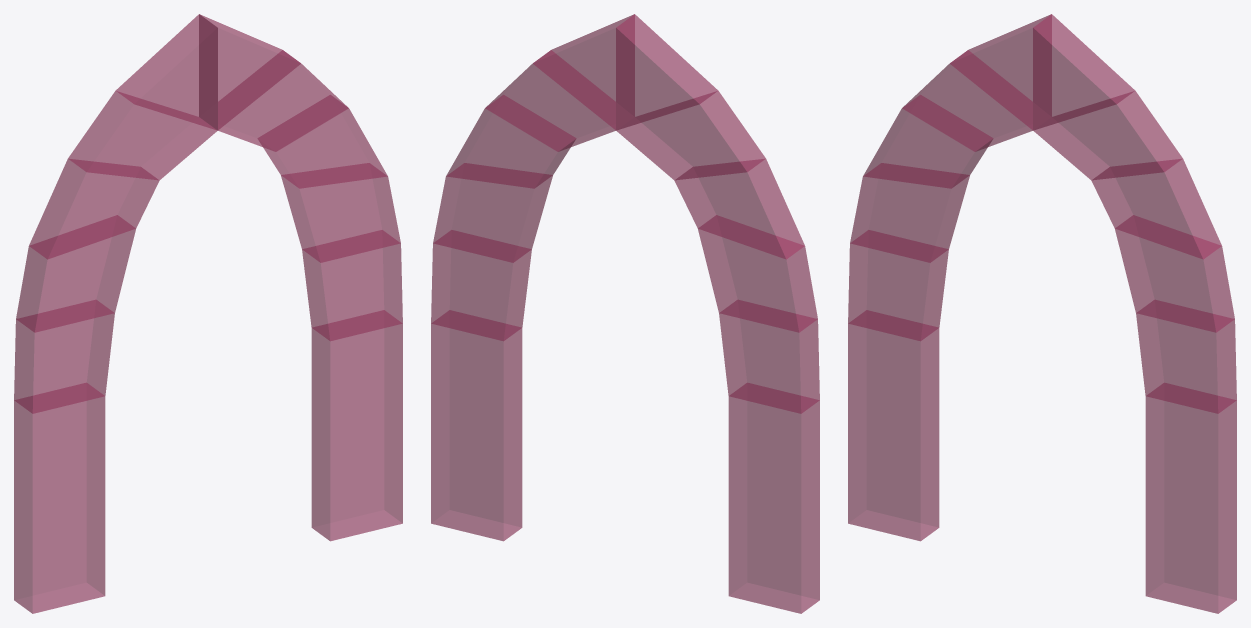
Rendered from SM_Bld_Arch_02_Collision.fbx.
3 renders of one model, left to right at view 1: azimuth 30°, elevation 25°; view 2: azimuth 150°, elevation 25°; view 3: azimuth 330°, elevation 25°, orthographic.
Parts seen in each view (by area): view 1: SM_Bld_Arch_02_Collision; view 2: SM_Bld_Arch_02_Collision; view 3: SM_Bld_Arch_02_Collision.
Part boxes in pixels (x1,y1,x2,y2): SM_Bld_Arch_02_Collision: (14,14,402,613); SM_Bld_Arch_02_Collision: (431,14,819,613); SM_Bld_Arch_02_Collision: (848,14,1236,613).
Size of the model in its own units: 353 by 493 by 30.9.
